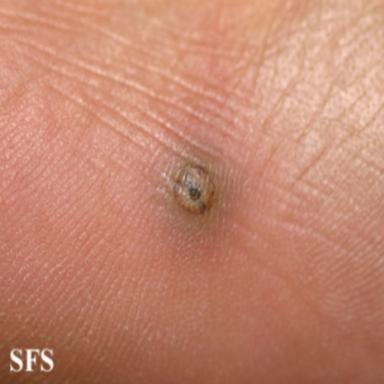Tungiasis: (174, 164, 215, 213)
